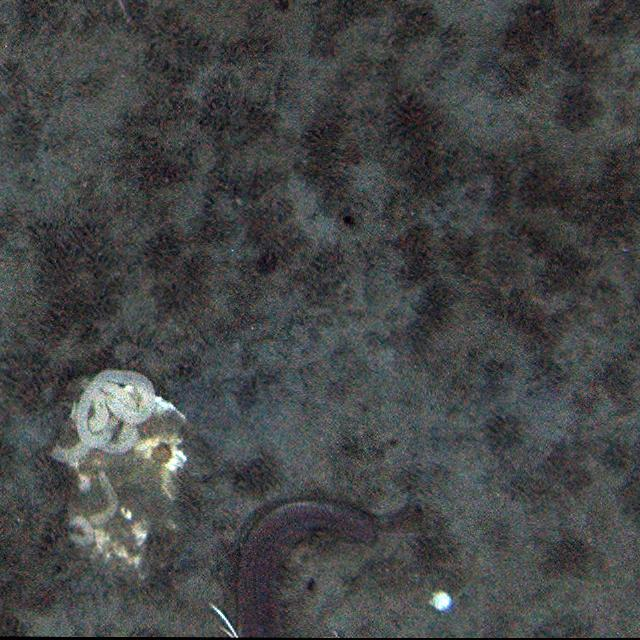roundfish: (219, 483, 426, 638)
